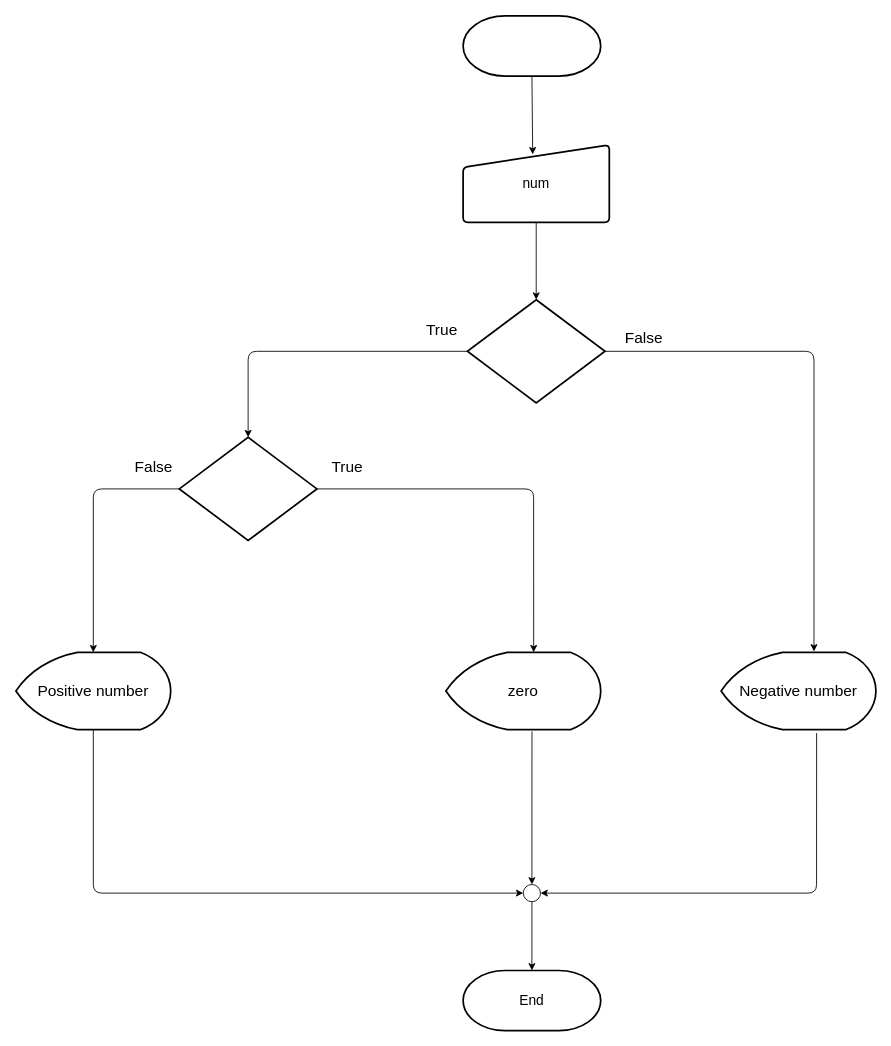
Image size: 891x1046. Some labels were removed from this diagram. Each missing label, with the box of its shape:
num == 0: (178, 436, 317, 541)
num >= 0: (466, 298, 605, 403)
start: (462, 15, 601, 77)
